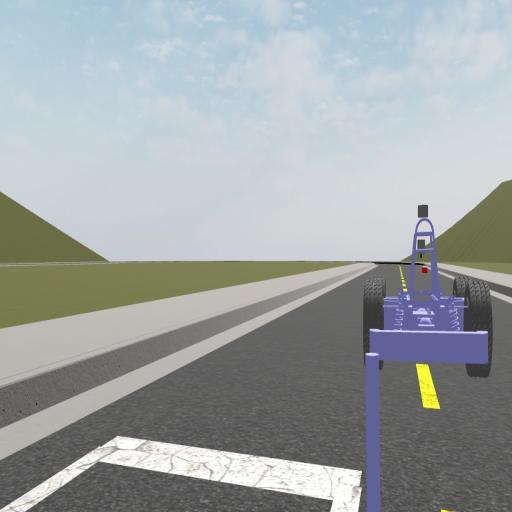ERP-42: (364, 204, 494, 378)
